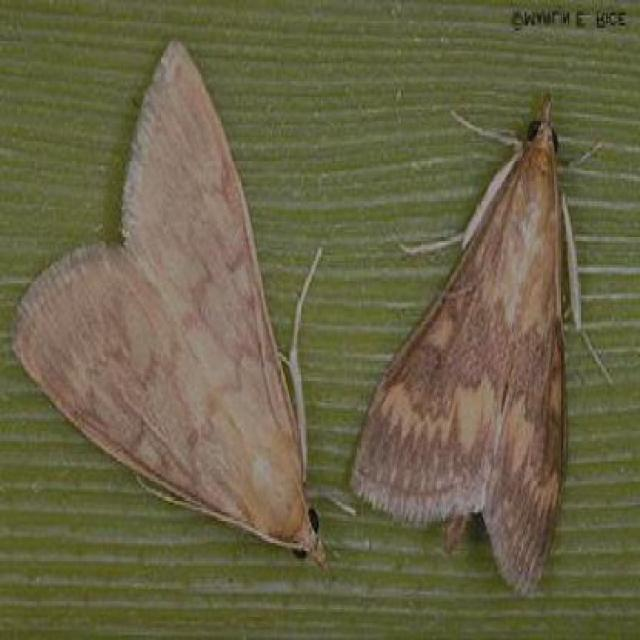stem-borer: (11, 37, 342, 586), (350, 84, 612, 598)
